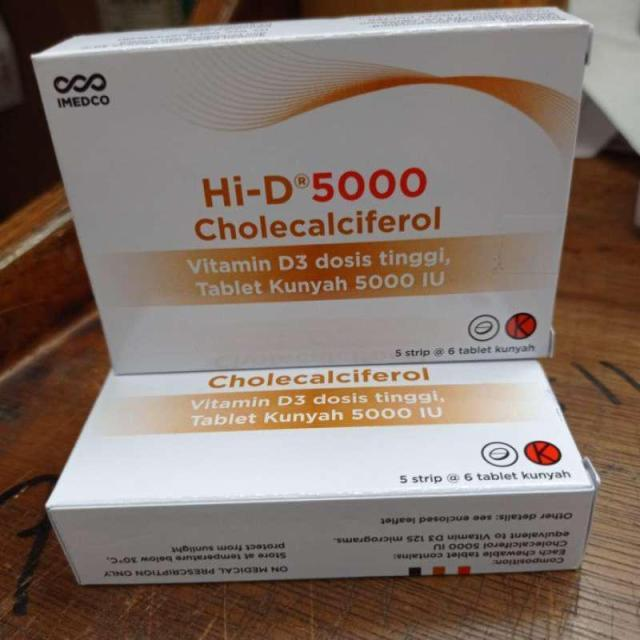drug-name: (201, 165, 430, 215)
